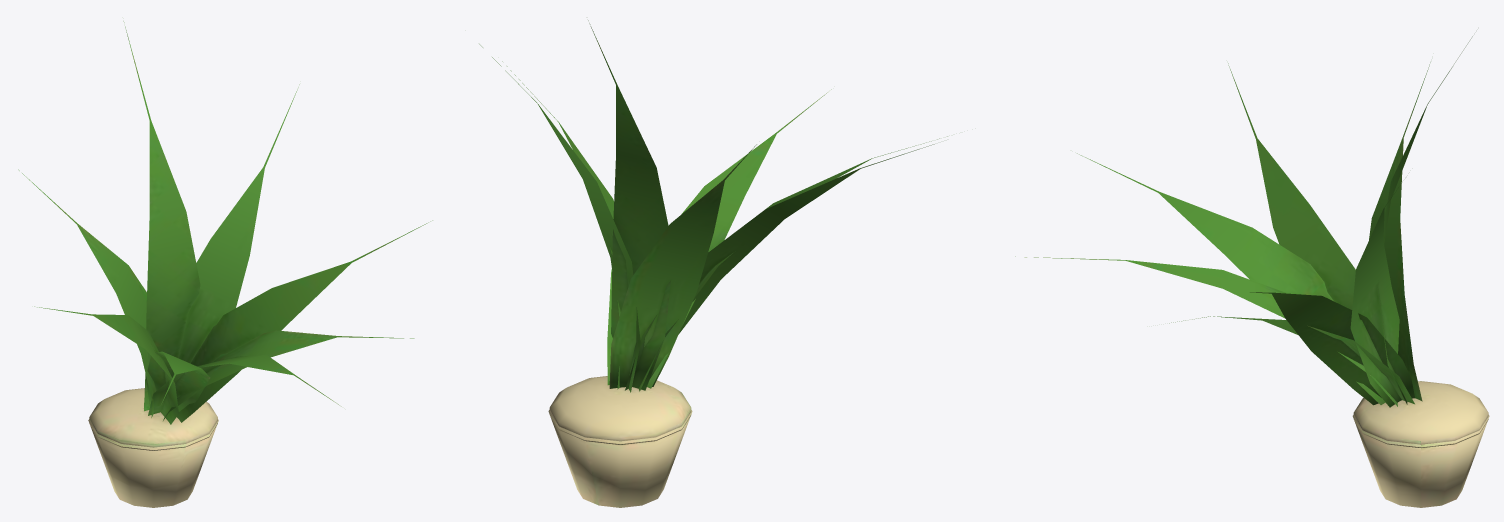
File: crop_parsnip.glb
3 renders of one model, left to right at view 1: azimuth 30°, elevation 25°; view 2: azimuth 150°, elevation 25°; view 3: azimuth 270°, elevation 25°, orthographic. The views are drawn at different scales.
Visible parts, largest first — view 1: crop_parsnip, fruit; view 2: crop_parsnip, fruit; view 3: crop_parsnip, fruit.
Boxes of the visible parts, x1,y1,x2,y2 form: crop_parsnip: (18,21,432,424); fruit: (88,388,218,507); crop_parsnip: (479,20,947,392); fruit: (548,376,692,507); crop_parsnip: (1015,36,1472,407); fruit: (1352,381,1489,507).
Size of the model in its own units: 0.3673 by 0.3837 by 0.3483.
Materials: 1 (1 with a texture image).
